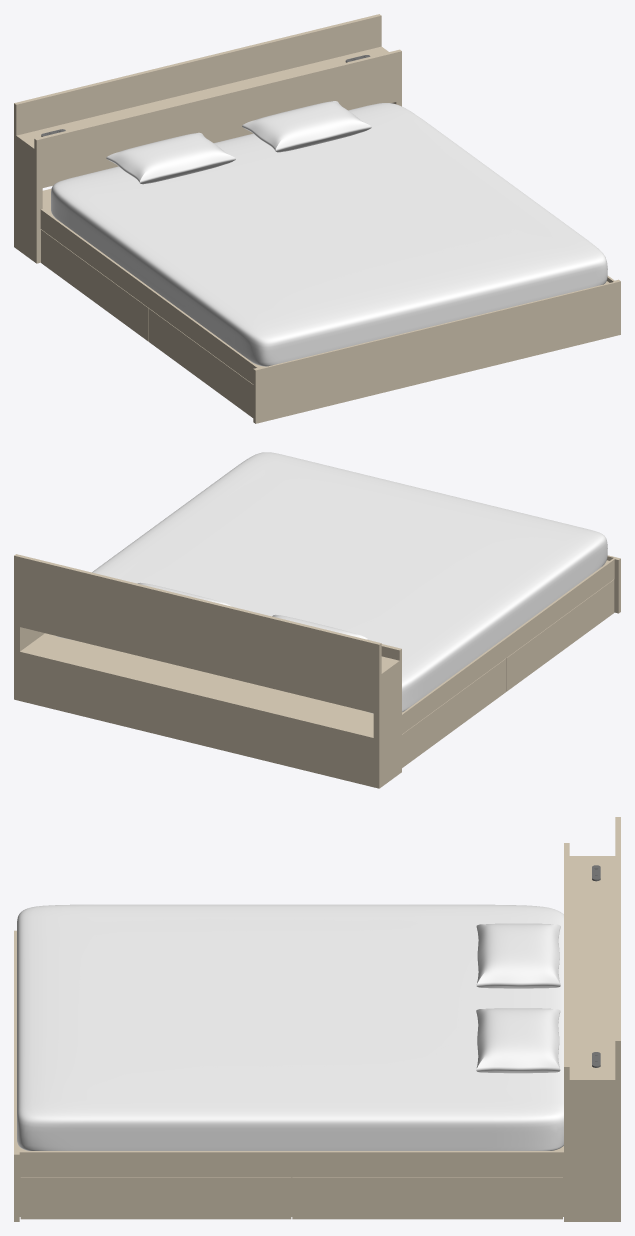
Rendered from 132_キングサイズベッド.glb.
3 views of the same model, one above another, from view 1: azimuth 30°, elevation 25°; view 2: azimuth 150°, elevation 25°; view 3: azimuth 270°, elevation 25° (orthographic). The views are drawn at different scales.
Parts seen in each view (by area): view 1: マットレス, body, 枕2, 枕1, 引き出し4, 引き出し3; view 2: マットレス, body, 引き出し3, 引き出し4; view 3: マットレス, body, 引き出し1, 引き出し2, 枕1, 枕2.
Boxes of the visible parts, box(x1,y1,x2,y2) form: マットレス: box(51, 103, 607, 366); body: box(14, 14, 620, 423); 枕2: box(242, 101, 371, 152); 枕1: box(106, 132, 235, 184); 引き出し4: box(41, 229, 148, 341); 引き出し3: box(149, 308, 253, 417); マットレス: box(56, 452, 607, 713); body: box(14, 554, 620, 788); 引き出し3: box(506, 579, 614, 691); 引き出し4: box(402, 658, 506, 767); マットレス: box(17, 904, 563, 1150); body: box(14, 817, 620, 1221); 引き出し1: box(20, 1177, 291, 1219); 引き出し2: box(292, 1177, 562, 1219); 枕1: box(476, 923, 560, 988); 枕2: box(476, 1008, 560, 1073).
Size of the model in its own units: 1.86 by 0.7 by 2.13.
